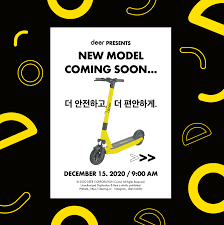kick_handler: (95, 77, 125, 87)
kick_wheel: (88, 147, 106, 163), (133, 130, 144, 145)
